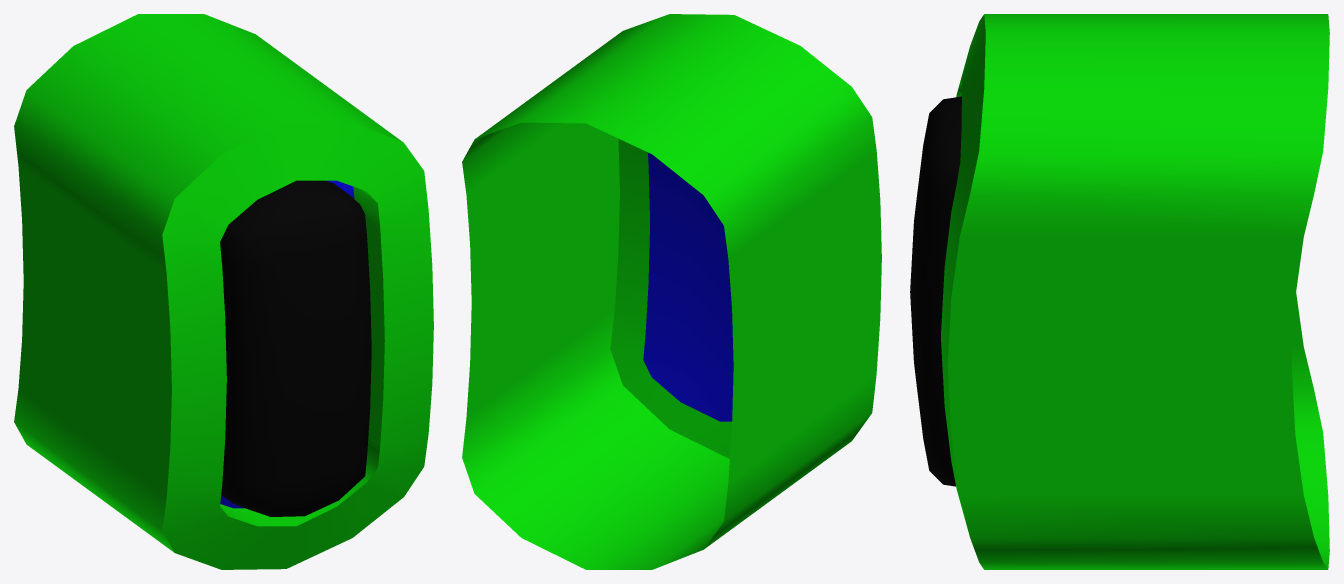
Rendered from CameraBot_LVL1.FBX.
3 renders of one model, left to right at view 1: azimuth 30°, elevation 25°; view 2: azimuth 150°, elevation 25°; view 3: azimuth 270°, elevation 25°, orthographic. The views are drawn at different scales.
Parts seen in each view (by area): view 1: CameraBot_LVL1; view 2: CameraBot_LVL1; view 3: CameraBot_LVL1.
Part boxes in pixels (box(x1,y1,x2,y2)): CameraBot_LVL1: box(14, 14, 433, 569); CameraBot_LVL1: box(462, 14, 881, 569); CameraBot_LVL1: box(910, 14, 1329, 569).
Size of the model in its own units: 17.55 by 28.59 by 21.
